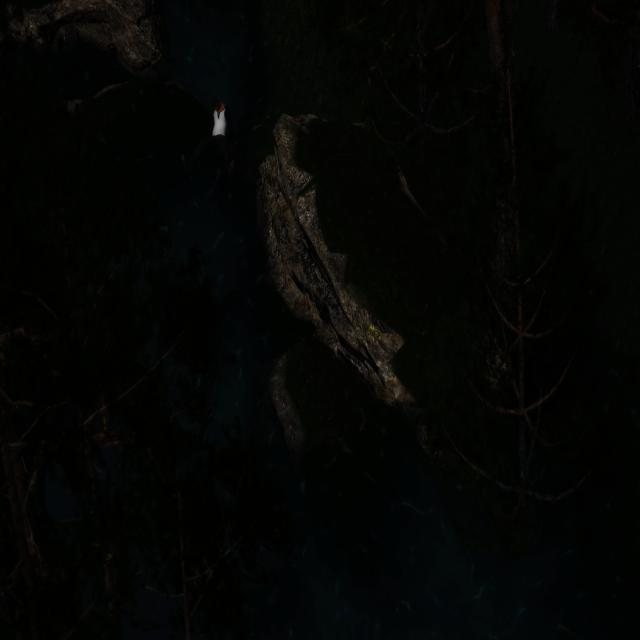Human: (177, 94, 239, 179)
